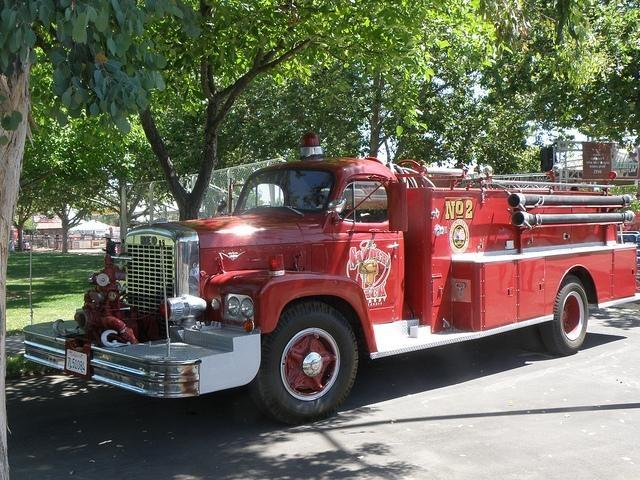truck: (25, 132, 640, 426)
